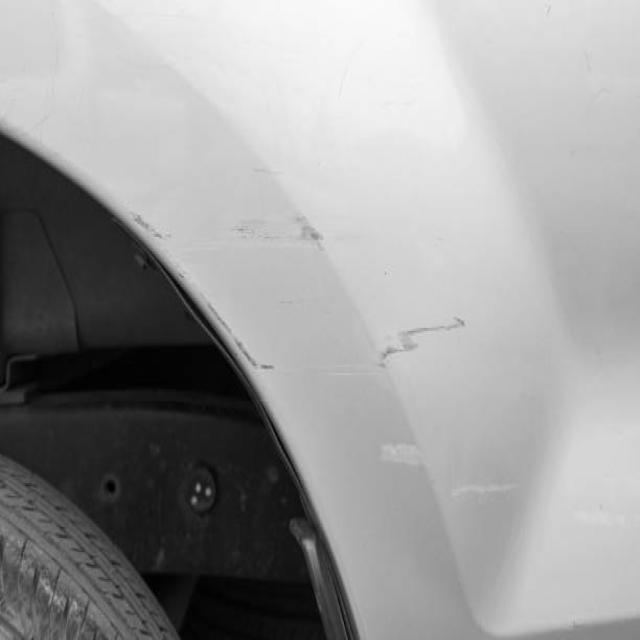scratch: (176, 267, 276, 381), (129, 201, 330, 246), (379, 314, 473, 366), (374, 438, 431, 474), (445, 477, 523, 503)
